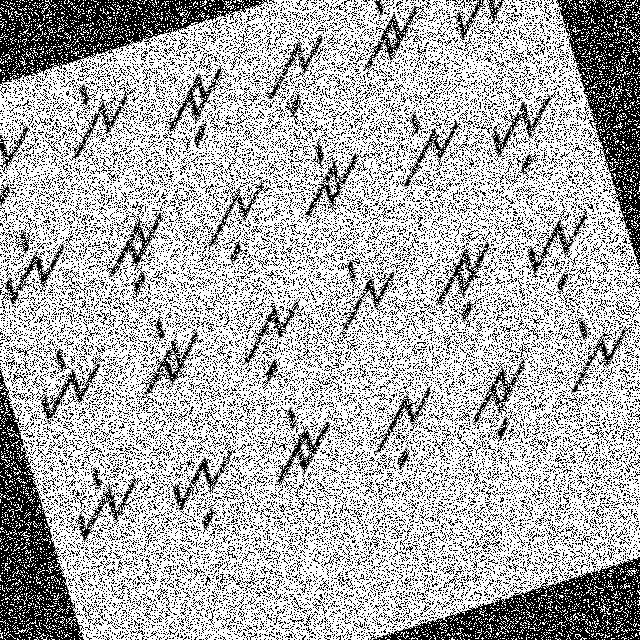le: (308, 232, 417, 350), (371, 92, 476, 199), (540, 296, 639, 403), (50, 64, 150, 162)
lu: (185, 169, 289, 276), (352, 376, 457, 481), (220, 284, 320, 392), (253, 27, 350, 128)
re: (247, 394, 349, 494), (117, 300, 216, 400), (275, 128, 376, 226), (334, 0, 439, 82)
ru: (146, 54, 247, 155), (86, 204, 188, 304), (452, 348, 548, 450), (419, 226, 511, 326)
ye: (16, 330, 118, 430), (54, 452, 152, 546), (0, 216, 84, 311), (432, 0, 530, 45)
yu: (464, 78, 570, 189), (504, 200, 610, 306), (156, 436, 255, 539), (0, 112, 55, 216)
